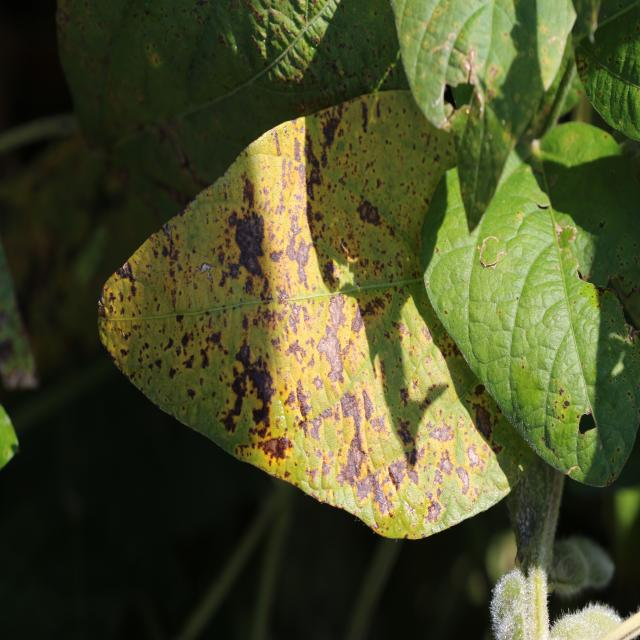Bacterial_Blight: (225, 344, 274, 437), (232, 332, 279, 392), (315, 305, 349, 384), (232, 211, 268, 280), (284, 231, 314, 285), (338, 442, 369, 489), (339, 389, 364, 435), (319, 112, 342, 157), (356, 197, 382, 226), (474, 404, 494, 441), (295, 380, 313, 419), (427, 419, 454, 444), (395, 417, 415, 449), (388, 458, 407, 488), (241, 172, 256, 208), (424, 495, 442, 523), (435, 450, 454, 476), (220, 409, 238, 434), (116, 260, 136, 282), (455, 465, 470, 492), (272, 130, 282, 155), (227, 261, 240, 279), (199, 348, 209, 369), (181, 330, 192, 349)
Soybean: (95, 0, 640, 575)
